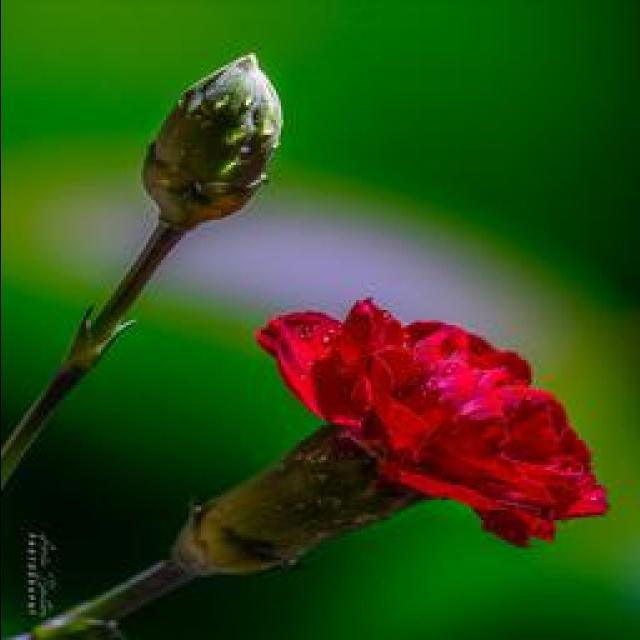carnation: (240, 298, 620, 582)
